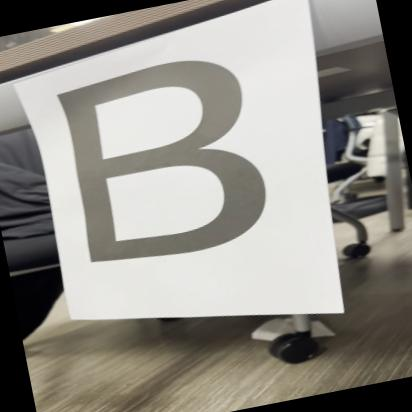seat: (36, 38, 322, 286)
